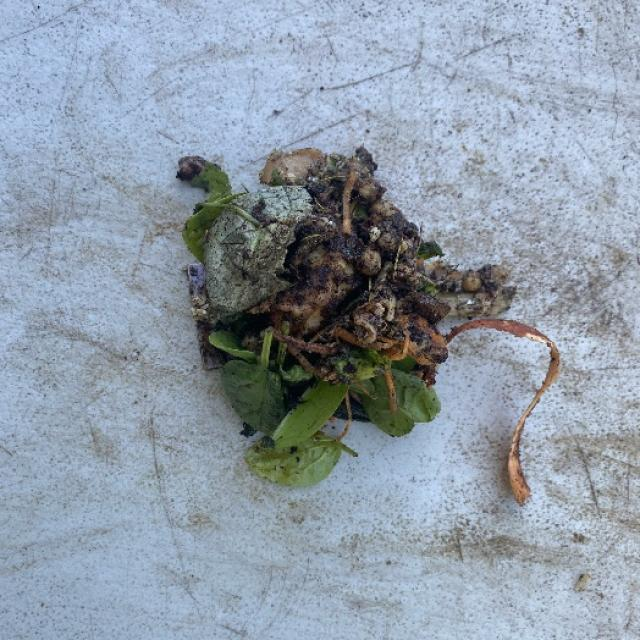organik: (170, 152, 476, 477)
